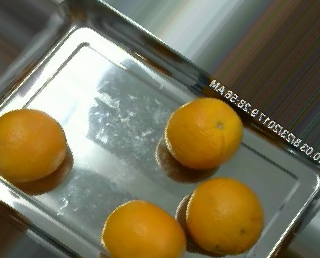Orange: (185, 177, 266, 253), (165, 95, 243, 170), (100, 199, 185, 258), (1, 108, 67, 181)
